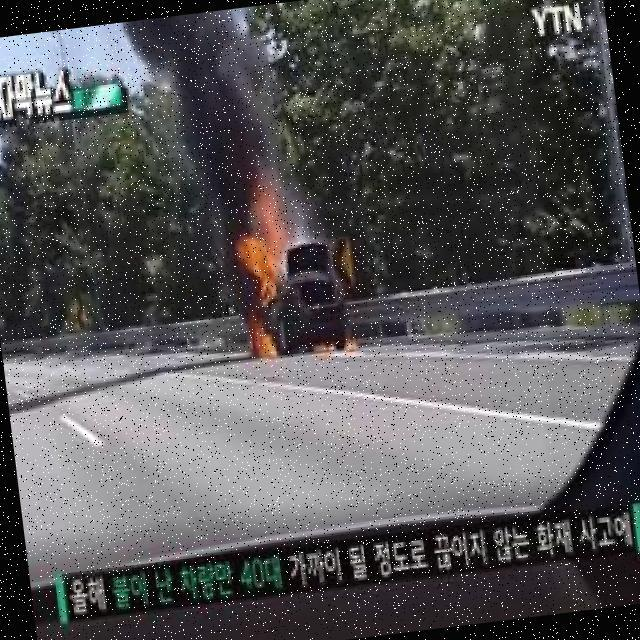Fire: (239, 216, 292, 295), (250, 323, 275, 358)
